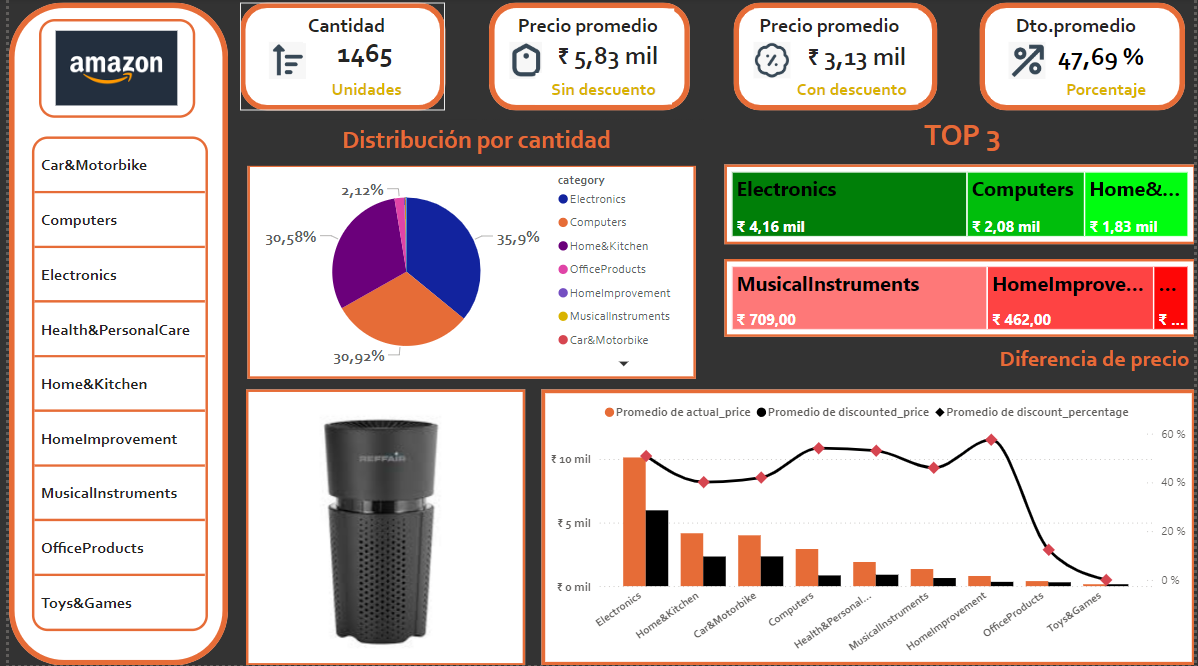

The dashboard page shown, as its layout file describes it:
{"tool":"powerbi","page":{"name":"Dashboard","canvas":[1280,720],"ordinal":0},"visuals":[{"type":"shape","box":[517.7,4.2,217,116.6],"z":0,"group":"g2"},{"type":"shape","box":[781.3,4.2,220.2,116.6],"z":0,"group":"g3"},{"type":"textbox","box":[968.3,123.1,121.4,58.3],"z":0},{"type":"shape","box":[249.2,4.2,221.8,116.6],"z":1000,"group":"g6"},{"type":"shape","box":[1048.2,4.2,221.8,116.6],"z":1000,"group":"g4"},{"type":"shape","box":[0,4.3,236.4,715.7],"z":1000},{"type":"textbox","box":[543,10.7,174.2,36],"z":1000,"group":"g2"},{"type":"image","box":[32.4,22.7,168.4,106.9],"z":2000},{"type":"card","title":"Precio promedio","fields":{"Values":["Avg(amazon.actual_price)"]},"box":[577.6,39.8,136,42.1],"z":2000,"group":"g2"},{"type":"image","box":[275.1,41.8,50.2,50.2],"z":2000,"group":"g6"},{"type":"image","box":[532.3,41.8,50,50.2],"z":3000,"group":"g2"},{"type":"advancedSlicerVisual","fields":{"Values":["amazon.category"]},"box":[19.4,144.1,200.8,545.7],"z":3000},{"type":"group","id":"g1","title":"Grupo 3","box":[249.2,4.2,221.8,116.6],"z":4000},{"type":"card","title":"Cantidad","fields":{"Values":["CountNonNull(amazon.actual_price)"]},"box":[333.4,31.7,100.4,51.8],"z":4000,"group":"g6"},{"type":"textbox","box":[567.9,80.3,147.3,34],"z":4000,"group":"g2"},{"type":"group","id":"g2","title":"Grupo 5","box":[517.7,4.2,217,116.6],"z":5000},{"type":"group","id":"g3","title":"Grupo 6","box":[781.3,4.2,220.2,116.6],"z":6000},{"type":"group","id":"g4","title":"Grupo 8","box":[1048.2,4.2,221.8,116.6],"z":7000},{"type":"simpleImageEBC4593F96F1425FB3D84C5BF02B5075","fields":{"imageURL":["fotos.img_buena"]},"box":[255.8,422.6,301.2,297.9],"z":8000},{"type":"textbox","box":[804.1,10.7,176.5,36],"z":9000,"group":"g3"},{"type":"lineClusteredColumnComboChart","fields":{"Category":["amazon.category"],"Y":["Avg(amazon.actual_price)","Avg(amazon.discounted_price)"],"Y2":["Avg(amazon.discount_percentage)"]},"box":[574.8,422.6,706,297.9],"z":9000},{"type":"textbox","box":[316.8,10.7,111.7,37.2],"z":10000,"group":"g6"},{"type":"group","id":"g5","title":"Grupo 7","box":[1074.1,10.7,171.6,102.9],"z":10000,"group":"g4"},{"type":"textbox","box":[1082.8,10.7,158.7,38.9],"z":10000,"group":"g5"},{"type":"pieChart","fields":{"Category":["amazon.category"],"Y":["CountNonNull(amazon.category)"]},"box":[257.5,179.7,484.1,231.5],"z":10000},{"type":"card","title":"Precio promedio","fields":{"Values":["Avg(amazon.discounted_price)"]},"box":[847.7,43.1,132.8,38.9],"z":11000,"group":"g3"},{"type":"treemap","fields":{"Group":["amazon.category"],"Values":["Avg(amazon.diff_price)"]},"box":[771.6,179.7,508.4,85.8],"z":11000},{"type":"treemap","fields":{"Group":["amazon.category"],"Values":["Avg(amazon.diff_price)"]},"box":[771.6,281.7,508.4,84.2],"z":12000},{"type":"textbox","box":[249.4,131.2,510.1,50.2],"z":13000},{"type":"textbox","box":[1046,369.2,233.2,47],"z":14000},{"type":"textbox","box":[838.3,79.6,142.5,34],"z":15000,"group":"g3"},{"type":"image","box":[797.6,41.8,50.2,50.2],"z":17000,"group":"g3"},{"type":"card","fields":{"Values":["Avg(amazon.discount_percentage)"]},"box":[1124.3,41.5,108.5,40.5],"z":17501,"group":"g5"},{"type":"image","box":[1074.1,41.9,50.2,50.2],"z":18002,"group":"g5"},{"type":"textbox","box":[325.3,79.6,121.4,34],"z":19000,"group":"g6"},{"type":"textbox","box":[1124.3,79.6,121.4,34],"z":19000,"group":"g5"},{"type":"group","id":"g6","title":"Grupo 4","box":[249.2,4.2,221.8,116.6],"z":19002,"group":"g1"}]}

Visuals, with their boxes in screenshot pixels (x1, y1, x2, y2), scaled from the page's 1280x720 canvas onto the 1198x666 screenshot:
shape: (left=485, top=4, right=688, bottom=112)
shape: (left=731, top=4, right=937, bottom=112)
textbox: (left=906, top=114, right=1020, bottom=168)
shape: (left=233, top=4, right=441, bottom=112)
shape: (left=981, top=4, right=1189, bottom=112)
shape: (left=0, top=4, right=221, bottom=665)
textbox: (left=508, top=10, right=671, bottom=43)
image: (left=30, top=21, right=188, bottom=120)
"Precio promedio" card: (left=541, top=37, right=668, bottom=76)
image: (left=257, top=39, right=304, bottom=85)
image: (left=498, top=39, right=545, bottom=85)
advancedSlicerVisual - amazon.category: (left=18, top=133, right=206, bottom=638)
"Grupo 3" group: (left=233, top=4, right=441, bottom=112)
"Cantidad" card: (left=312, top=29, right=406, bottom=77)
textbox: (left=532, top=74, right=669, bottom=106)
"Grupo 5" group: (left=485, top=4, right=688, bottom=112)
"Grupo 6" group: (left=731, top=4, right=937, bottom=112)
"Grupo 8" group: (left=981, top=4, right=1189, bottom=112)
simpleImageEBC4593F96F1425FB3D84C5BF02B5075 - fotos.img_buena: (left=239, top=391, right=521, bottom=665)
textbox: (left=753, top=10, right=918, bottom=43)
lineClusteredColumnComboChart - amazon.category x Avg(amazon.actual_price): (left=538, top=391, right=1197, bottom=665)
textbox: (left=297, top=10, right=401, bottom=44)
"Grupo 7" group: (left=1005, top=10, right=1166, bottom=105)
textbox: (left=1013, top=10, right=1162, bottom=46)
pieChart - amazon.category x CountNonNull(amazon.category): (left=241, top=166, right=694, bottom=380)
"Precio promedio" card: (left=793, top=40, right=918, bottom=76)
treemap - amazon.category x Avg(amazon.diff_price): (left=722, top=166, right=1197, bottom=246)
treemap - amazon.category x Avg(amazon.diff_price): (left=722, top=261, right=1197, bottom=338)
textbox: (left=233, top=121, right=711, bottom=168)
textbox: (left=979, top=342, right=1197, bottom=385)
textbox: (left=785, top=74, right=918, bottom=105)
image: (left=747, top=39, right=793, bottom=85)
card - Avg(amazon.discount_percentage): (left=1052, top=38, right=1154, bottom=76)
image: (left=1005, top=39, right=1052, bottom=85)
textbox: (left=304, top=74, right=418, bottom=105)
textbox: (left=1052, top=74, right=1166, bottom=105)
"Grupo 4" group: (left=233, top=4, right=441, bottom=112)
